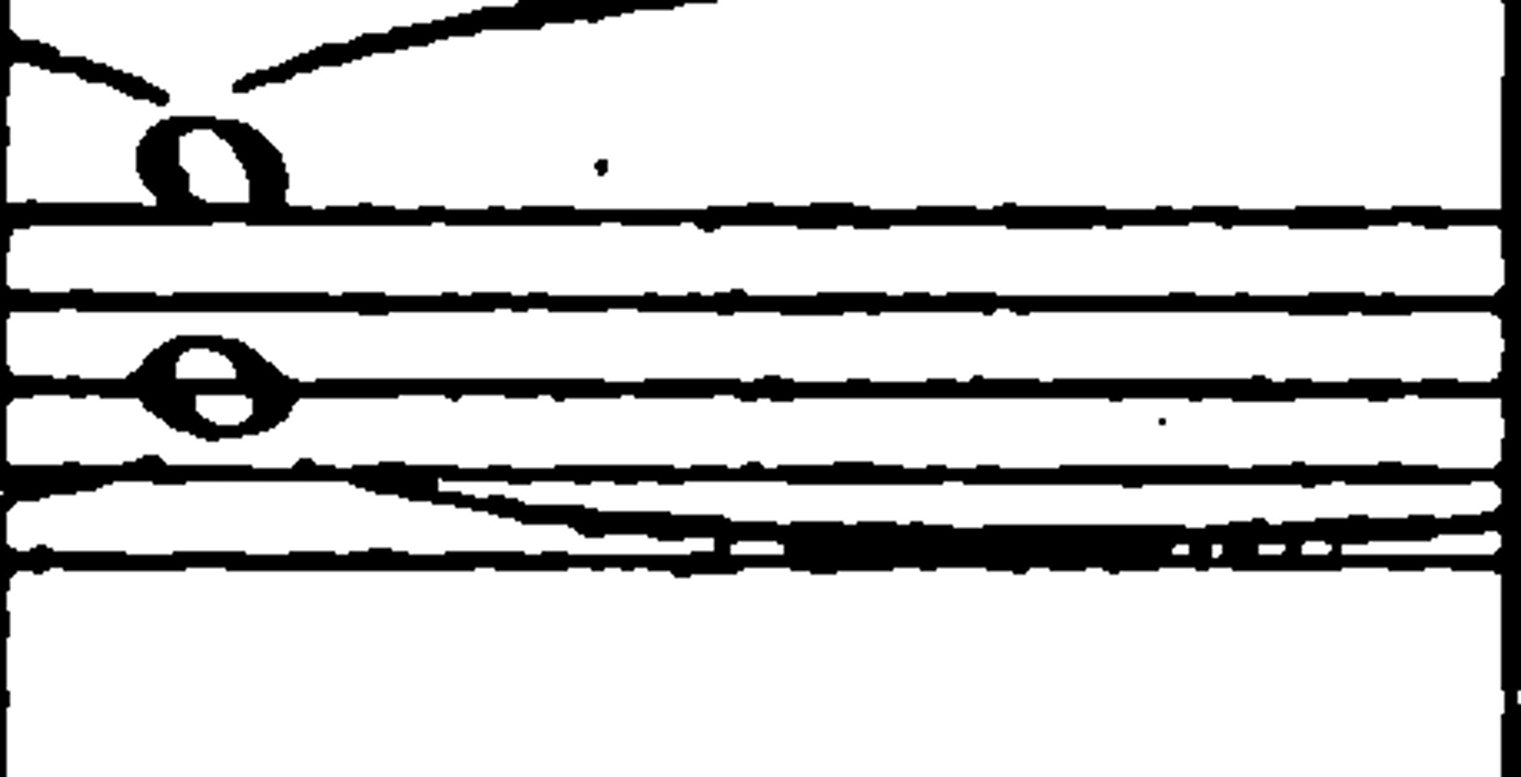noteheadBlackInSpace: (1501, 314, 1521, 338), (1012, 557, 1030, 574)
noteheadBlackOnLine: (145, 166, 188, 219), (141, 163, 187, 202), (248, 196, 288, 222), (0, 466, 18, 513), (244, 412, 281, 434), (0, 370, 15, 411), (696, 208, 720, 232), (291, 458, 316, 480), (1501, 317, 1521, 341), (1500, 300, 1521, 322), (1249, 375, 1272, 393), (967, 375, 984, 394)
restHBar: (362, 520, 1502, 575), (171, 284, 1312, 319), (171, 457, 1312, 490), (253, 373, 1388, 403)
restWhole: (400, 15, 482, 35), (475, 7, 541, 28), (497, 551, 569, 570), (552, 380, 621, 398), (370, 27, 435, 45), (177, 551, 245, 566), (307, 43, 352, 65), (349, 40, 395, 52), (1366, 209, 1398, 225), (1388, 561, 1425, 570), (1105, 218, 1123, 229)
